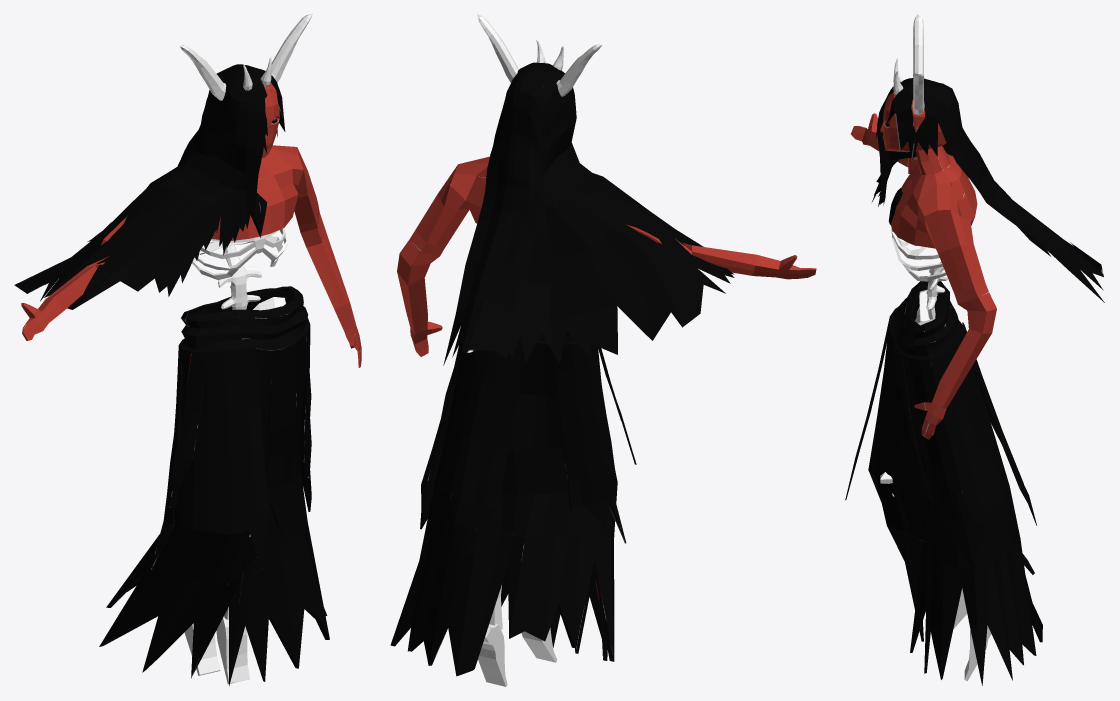
The model's file is cursedqueenattack_03.fbx.
The picture shows the model from 3 angles, left to right: view 1: azimuth 30°, elevation 25°; view 2: azimuth 150°, elevation 25°; view 3: azimuth 270°, elevation 25°; orthographic projection. The views are drawn at different scales.
Parts seen in each view (by area): view 1: cursed_queen; view 2: cursed_queen; view 3: cursed_queen.
Boxes of the visible parts, <box> form: cursed_queen: <box>14,14,361,686</box>; cursed_queen: <box>390,14,816,686</box>; cursed_queen: <box>845,14,1104,685</box>.
Bounding box in the file's own units: 166 × 280 × 106.
